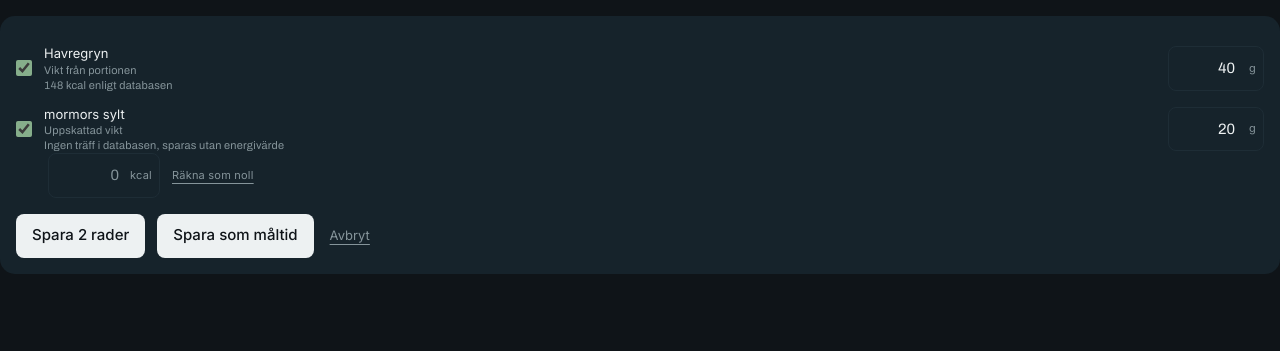
it: spara som måltid, beside logga › saves only the rows the database matched, under the name typed
This screenshot has width=1280, height=351.
Click the button with test id "save-as-meal". click: click(235, 236)
box: x1=157 y1=214 x2=314 y2=258
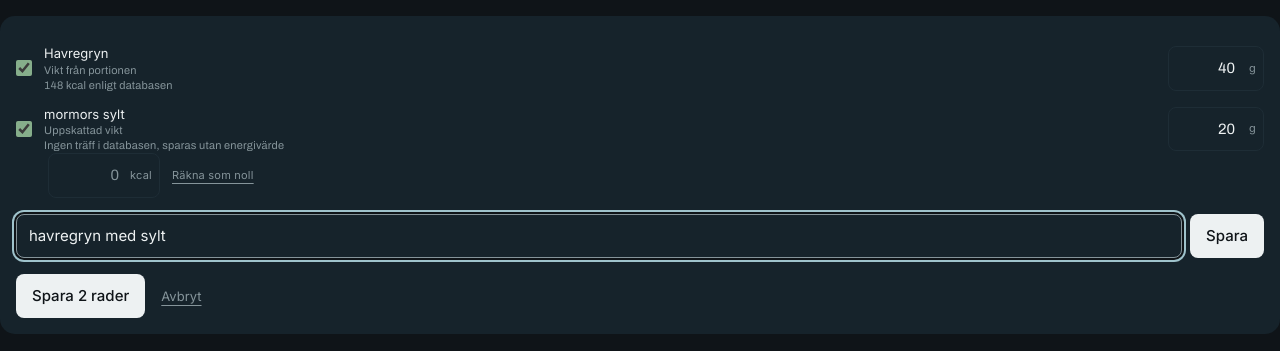
Click the button with test id "save-as-meal-confirm". click: click(1227, 236)
box: x1=1190 y1=214 x2=1264 y2=258
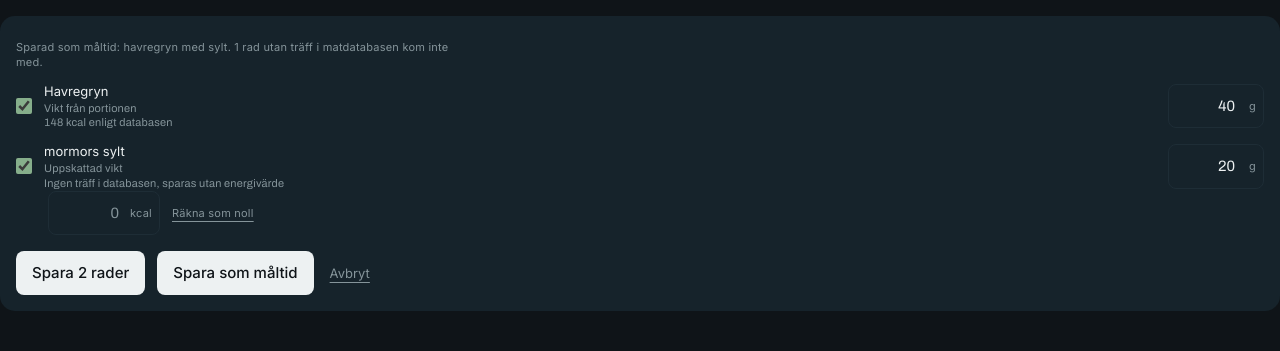
Now the message shows "1 rad utan träff", box x1=16 y1=40 x2=448 y2=69
